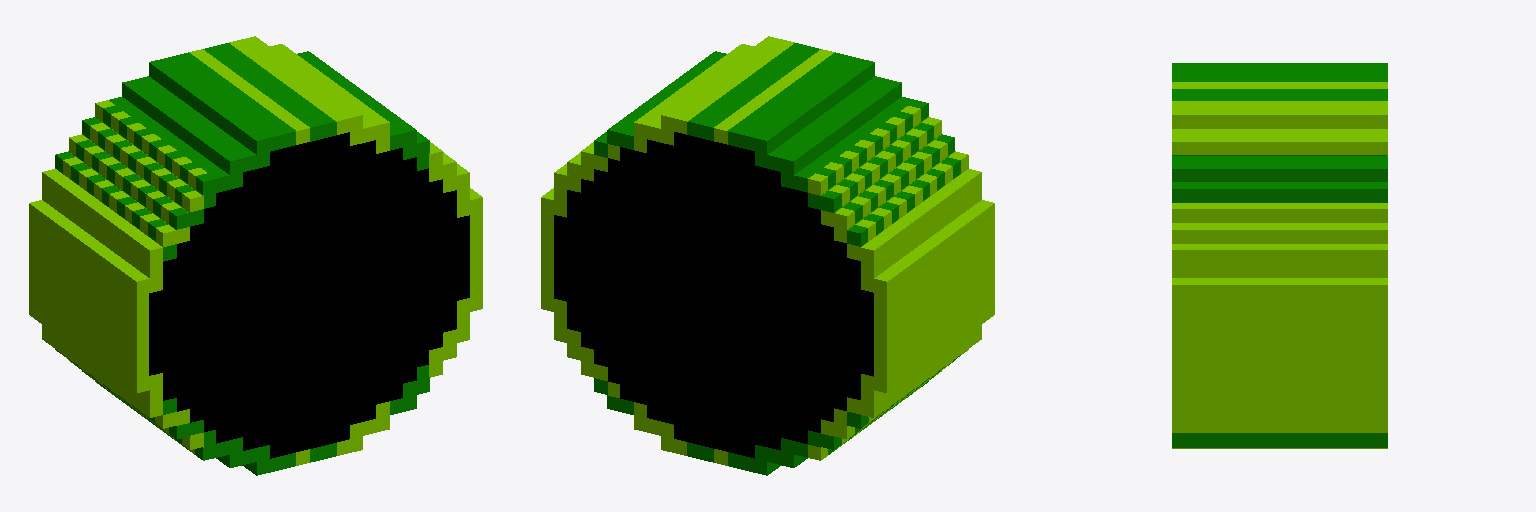
3 views of the same model, side by side, from view 1: azimuth 30°, elevation 25°; view 2: azimuth 150°, elevation 25°; view 3: azimuth 270°, elevation 25° (orthographic).
Visible parts, largest first — view 1: pipe; view 2: pipe; view 3: pipe.
Boxes of the visible parts, x1,y1,x2,y2 form: pipe: [29, 36, 482, 475]; pipe: [541, 36, 994, 475]; pipe: [1172, 63, 1387, 448].
Bounding box in the file's own units: 260 × 240 × 140.
Materials: 1 (1 with a texture image).